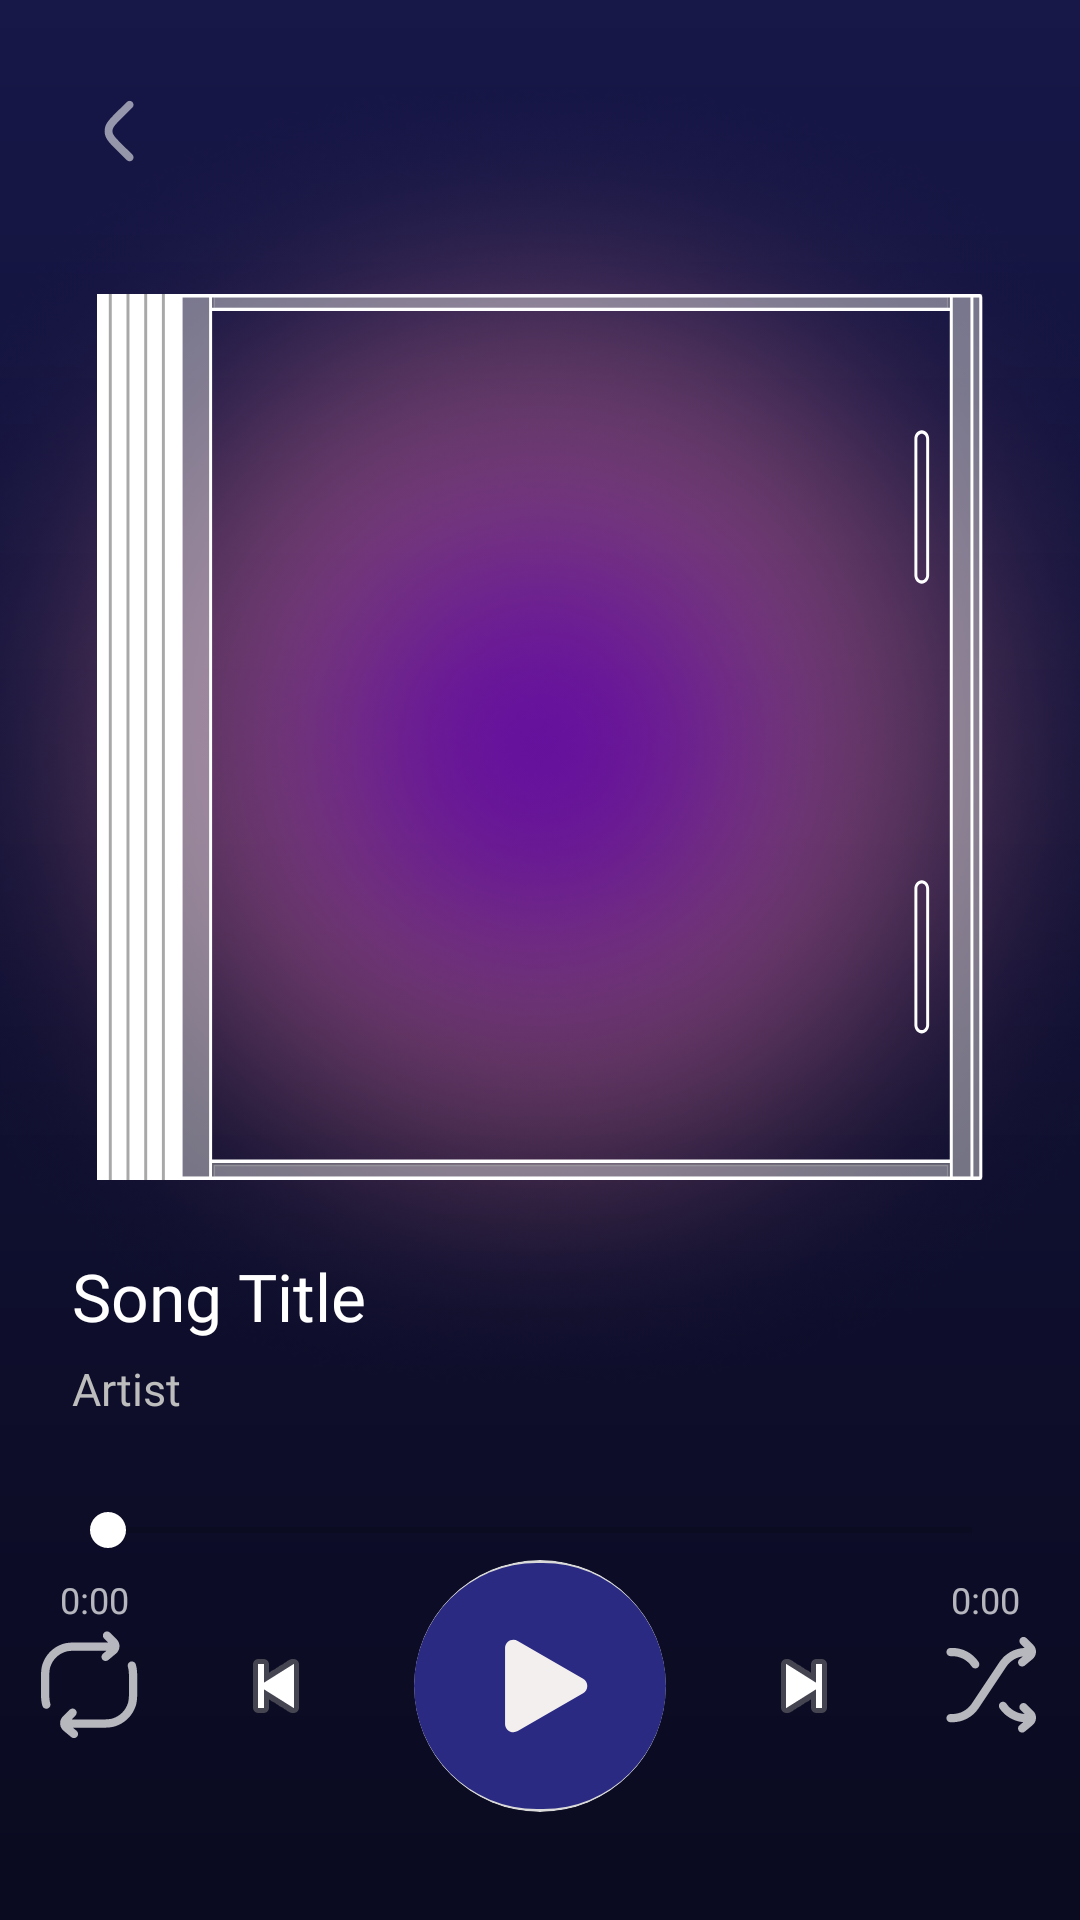

Icons on this 1080px x 1920px Android screen, each with its box as [left=x1, top=y1, right=x2, bottom=y2]:
back: [left=104, top=101, right=134, bottom=162]
next: [left=781, top=1659, right=827, bottom=1713]
play: [left=414, top=1560, right=666, bottom=1812]
previous: [left=253, top=1659, right=299, bottom=1713]
repeate: [left=41, top=1631, right=138, bottom=1738]
shuffle: [left=946, top=1637, right=1036, bottom=1733]
